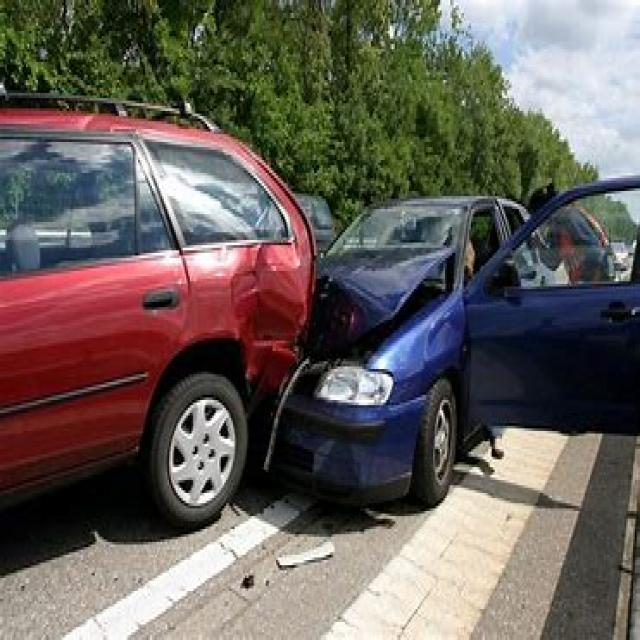Accident: (48, 48, 595, 570)
